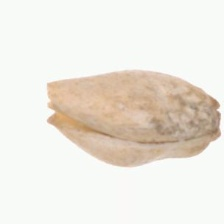L1: (45, 80, 65, 132), (211, 99, 221, 148)
L2: (46, 70, 222, 167)
